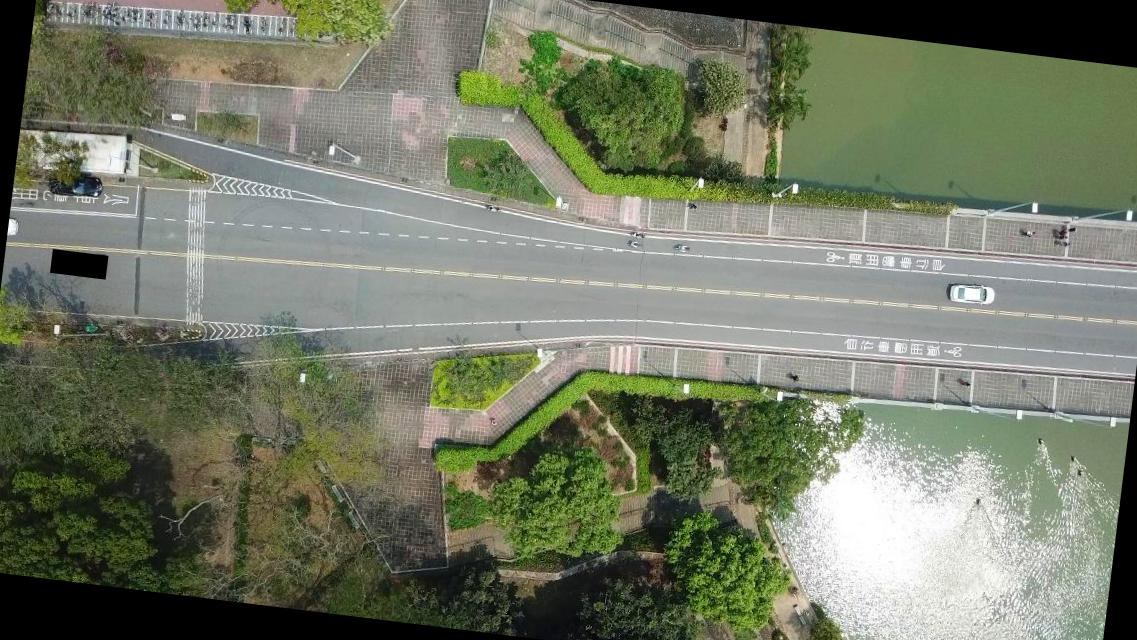vehicle: (45, 170, 103, 202), (947, 282, 994, 306)
